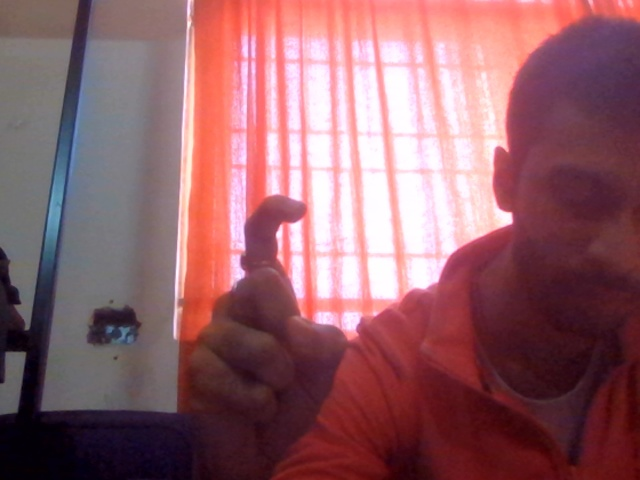X: (131, 168, 361, 479)
